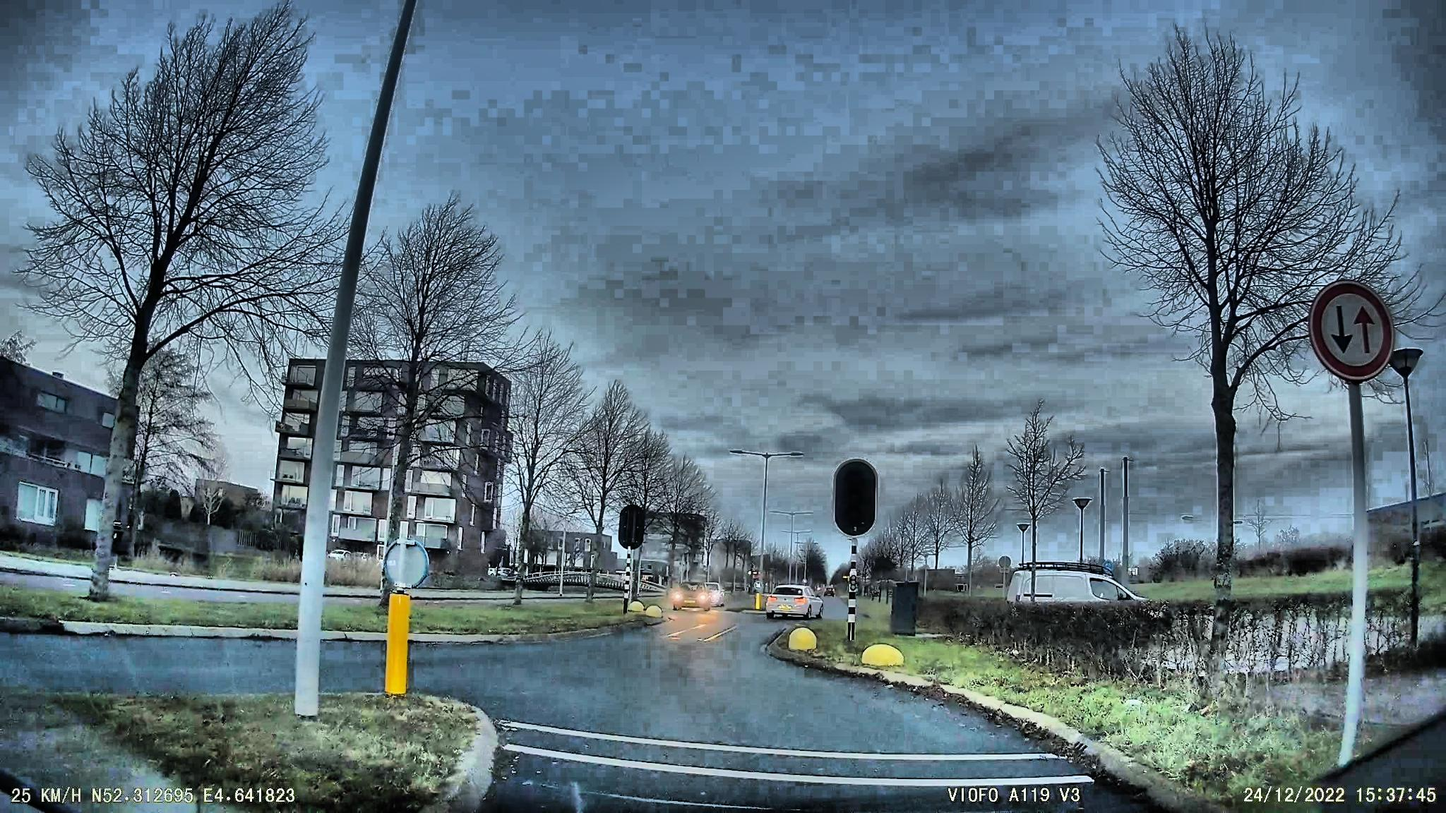Roads: (405, 617, 1157, 813), (26, 635, 300, 695)
